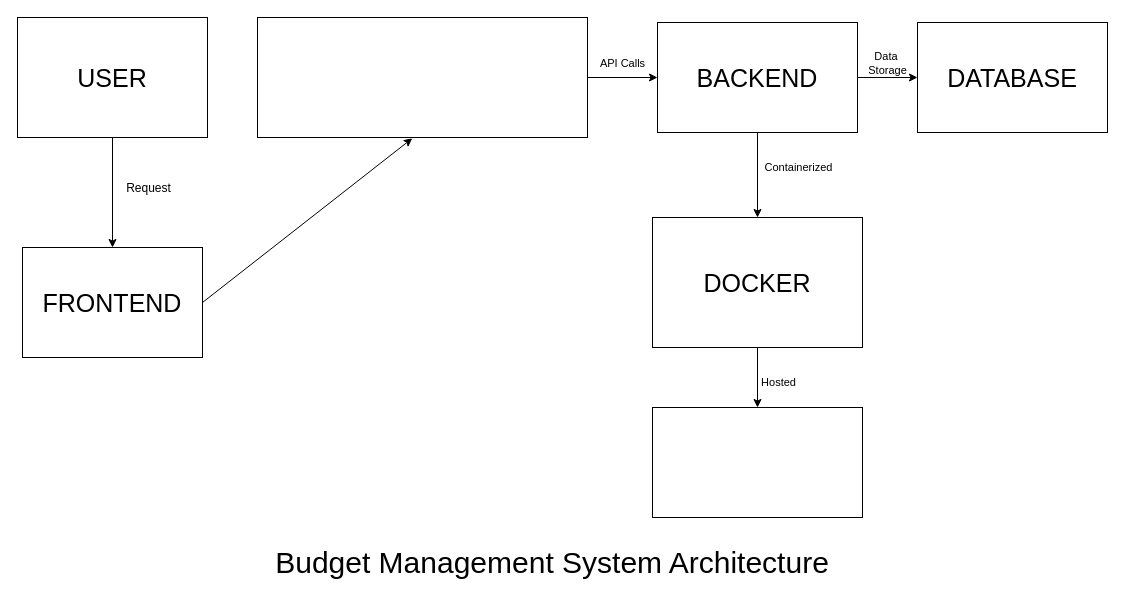
Some shapes in this 1125 by 598 pixel diagram are drawn without their labels. Here are the shapes that lost their labels. From the top down, the centre of each, then its label:
At point 422,77: "AUTHENTICATION/LOGIN SYSTEM".
At point 757,462: "DEPLOYMENT".
